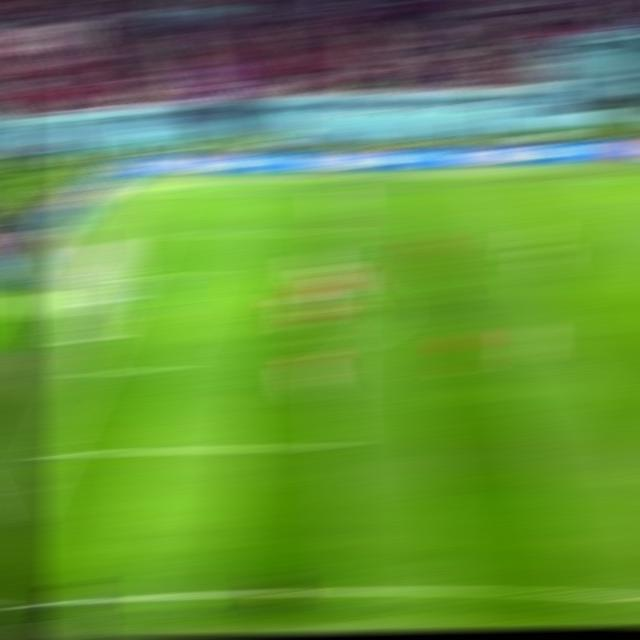bigarea_bottom_inner: (319, 437, 356, 454)
bigarea_bottom_outter: (32, 447, 67, 463)
bigarea_top_inner: (318, 230, 348, 237)
bigarea_top_outter: (136, 231, 165, 238)
bottom_arc_area_intersection: (317, 348, 355, 364)
corner: (155, 191, 186, 197)
smallarea_bottom_inner: (154, 359, 190, 377)
smallarea_bottom_outter: (69, 364, 106, 378)
smallarea_top_inner: (183, 270, 215, 281)
smallarea_top_outter: (116, 270, 148, 282)
